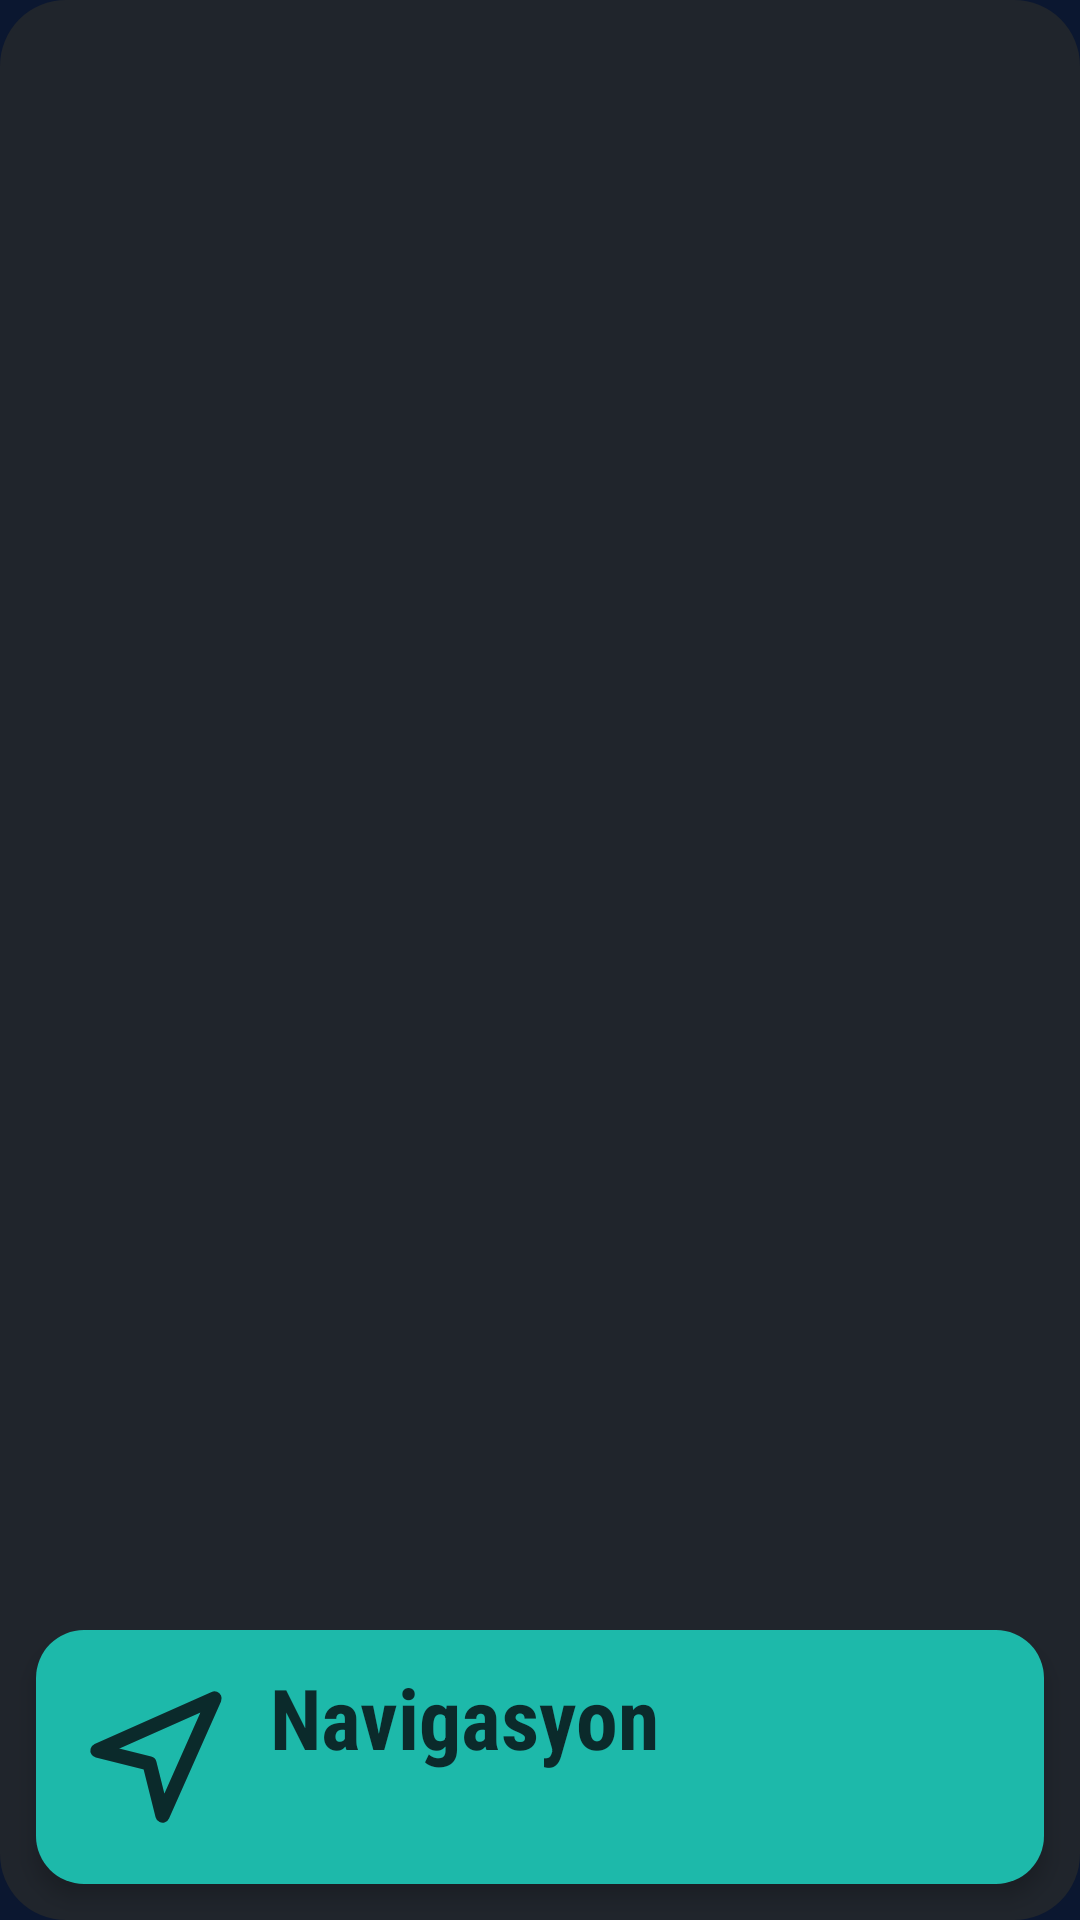

Locate icon controls on the screen. Image size 1080px x 1920px, boxes as (x1, y1, x2, y2).
nav: (90, 1691, 222, 1823)
